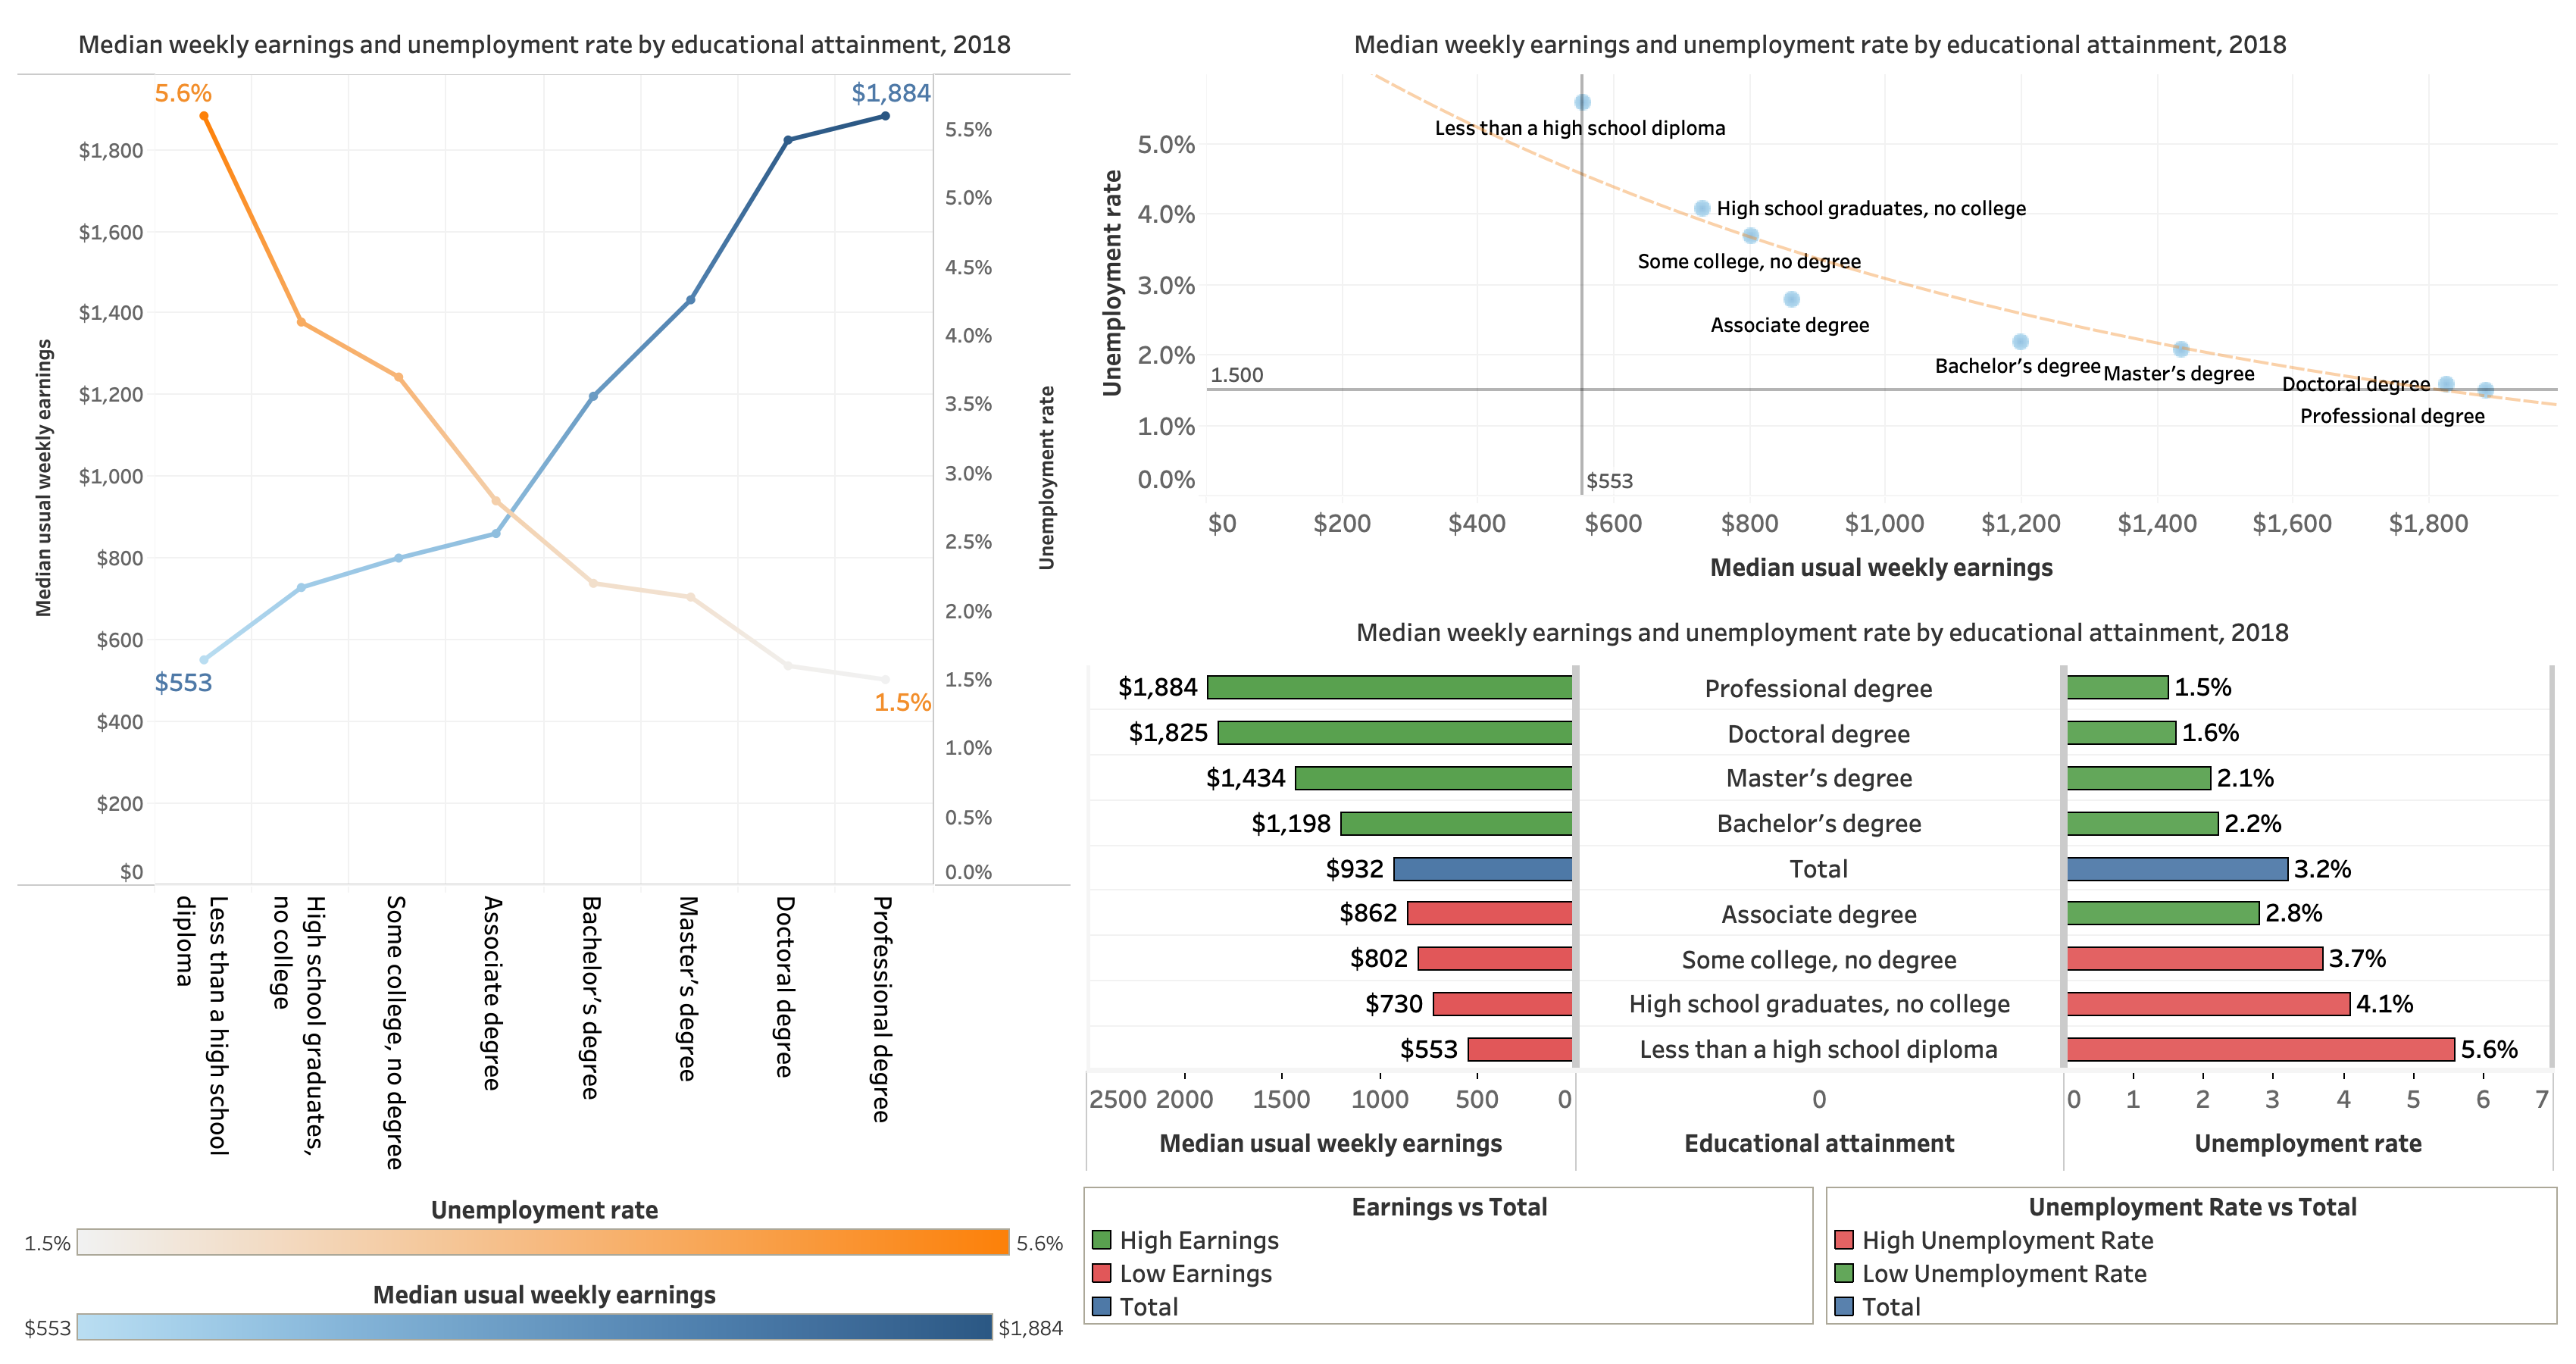

The dashboard page shown, as its layout file describes it:
{"tool":"tableau","page":{"name":"Dashboard 1","canvas":[1700,900],"ordinal":0},"visuals":[{"type":"worksheet","title":"Line Plots","mark":"Line","rows":["Median usual weekly earnings","Unemployment rate"],"cols":["Educational attainment"],"box":[8,8,703.1,770.8]},{"type":"worksheet","title":"Scatter Plots","mark":"Heatmap","rows":["Unemployment rate"],"cols":["Median usual weekly earnings"],"box":[711.1,8,980.9,388]},{"type":"worksheet","title":"Bar Charts","mark":"Automatic","rows":["Educational attainment"],"cols":["Median usual weekly earnings","Calculation_989032739106267137","Unemployment rate"],"box":[711.1,396,980.9,382.8]},{"type":"legend","title":"Line Plots","param":"[federated.0ztanca05n0wb01ahazw41kahwq2].[sum:Unemployment rate:qk]","box":[8,778.8,703.1,56.5]},{"type":"legend","title":"Bar Charts","param":"[federated.0ztanca05n0wb01ahazw41kahwq2].[none:Calculation_1428415177778978818:n","box":[711.1,778.8,490.4,113.2]},{"type":"legend","title":"Bar Charts","param":"[federated.0ztanca05n0wb01ahazw41kahwq2].[none:Calculation_1428415177784074246:n","box":[1201.5,778.8,490.5,113.2]},{"type":"legend","title":"Line Plots","param":"[federated.0ztanca05n0wb01ahazw41kahwq2].[sum:Median usual weekly earnings:qk]","box":[8,835.4,703.1,56.6]}]}

Visuals, with their boxes in screenshot pixels (x1, y1, x2, y2), scaled from the page's 1700x900 canvas onto the 2576x1364 screenshot:
"Line Plots" worksheet (Line marks): l=12, t=12, r=1077, b=1181
"Scatter Plots" worksheet (Heatmap marks): l=1077, t=12, r=2564, b=600
"Bar Charts" worksheet: l=1077, t=600, r=2564, b=1181
"Line Plots" legend: l=12, t=1181, r=1077, b=1266
"Bar Charts" legend: l=1077, t=1181, r=1821, b=1352
"Bar Charts" legend: l=1821, t=1181, r=2564, b=1352
"Line Plots" legend: l=12, t=1266, r=1077, b=1352
